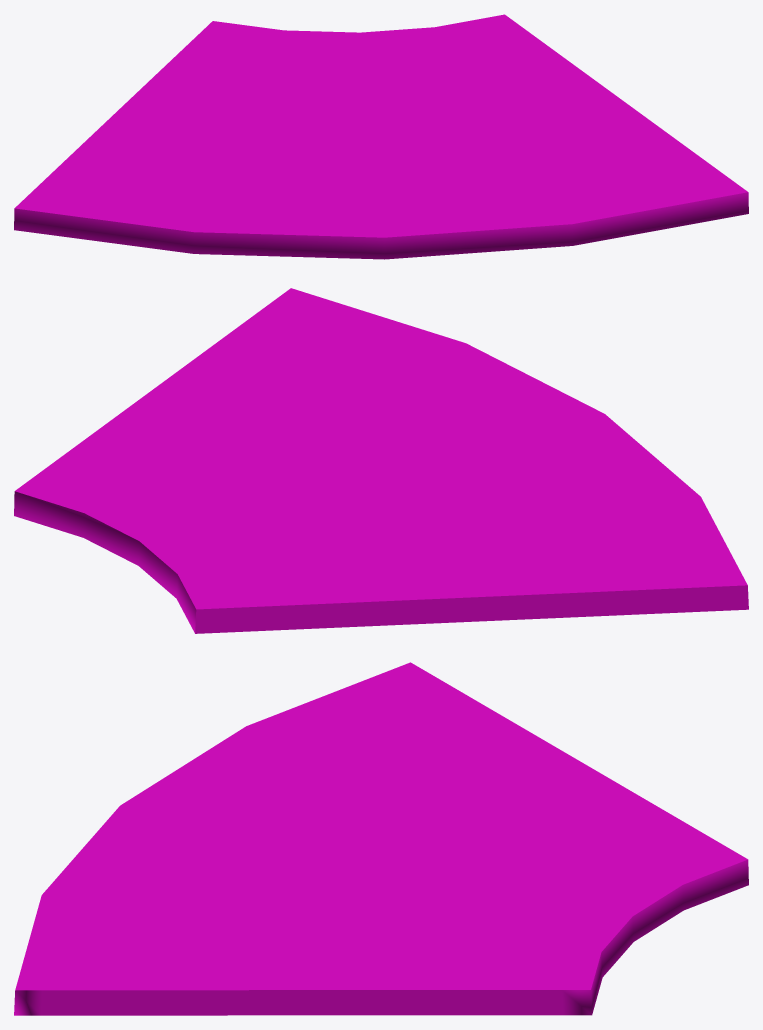
Rendered from Plastic_Pipe_F_30Deg.fbx.
3 views of the same model, one above another, from view 1: azimuth 30°, elevation 25°; view 2: azimuth 150°, elevation 25°; view 3: azimuth 270°, elevation 25° (orthographic). The views are drawn at different scales.
Visible parts, largest first — view 1: Plastic_Pipe_F_30Deg; view 2: Plastic_Pipe_F_30Deg; view 3: Plastic_Pipe_F_30Deg.
Boxes of the visible parts, left/top/right/bottom form: Plastic_Pipe_F_30Deg: left=14, top=14, right=748, bottom=259; Plastic_Pipe_F_30Deg: left=14, top=288, right=748, bottom=633; Plastic_Pipe_F_30Deg: left=14, top=662, right=748, bottom=1015.
Bounding box in the file's own units: 6.25 × 0.2246 × 5.91.
